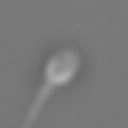normal: (17, 82, 53, 128)
